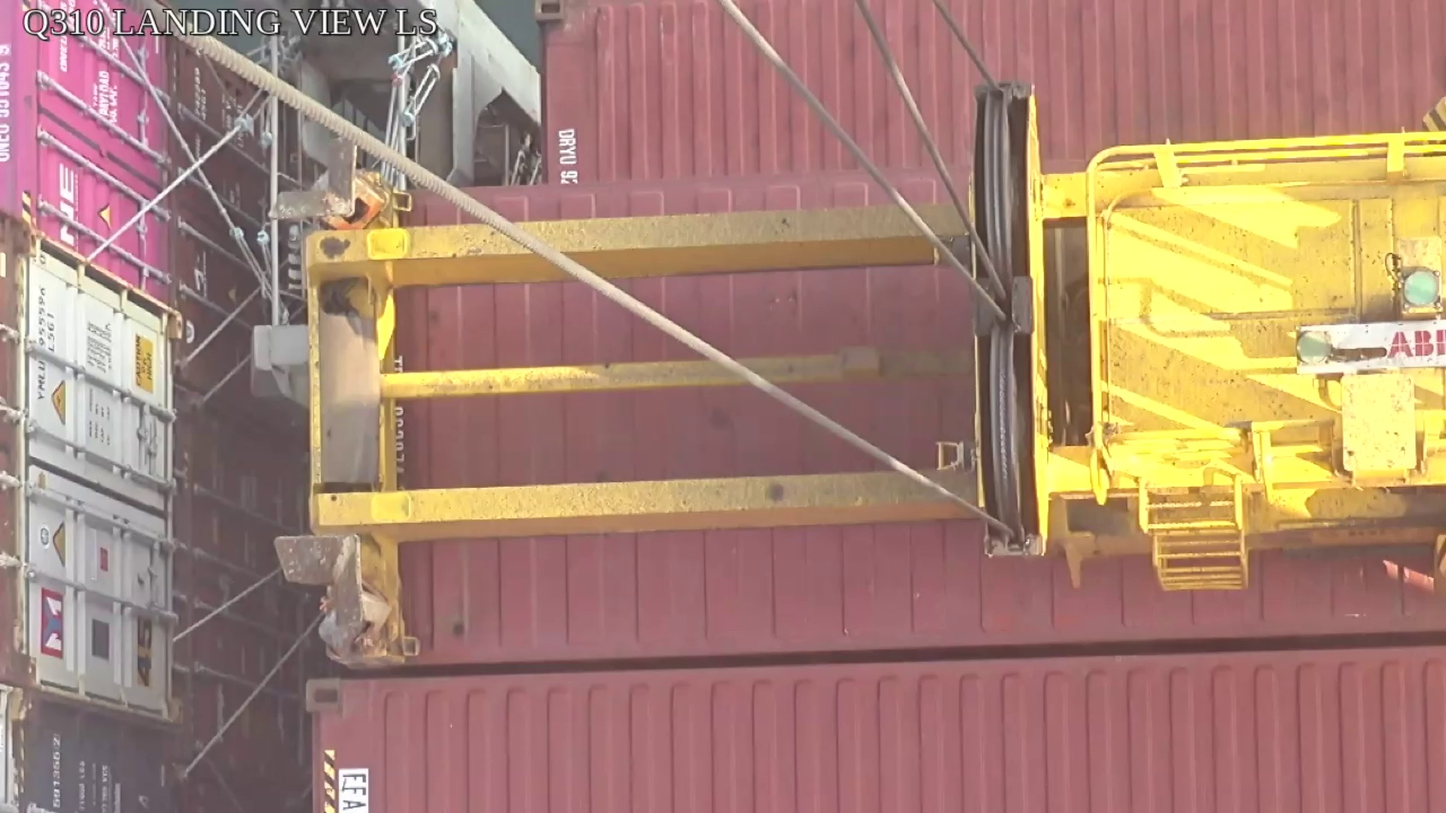aa: (970, 80, 1057, 559)
